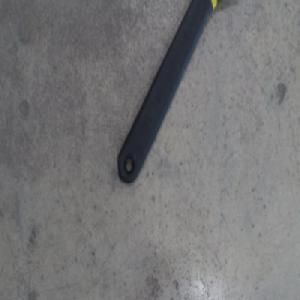AdjustableWrench: (117, 0, 220, 183)
